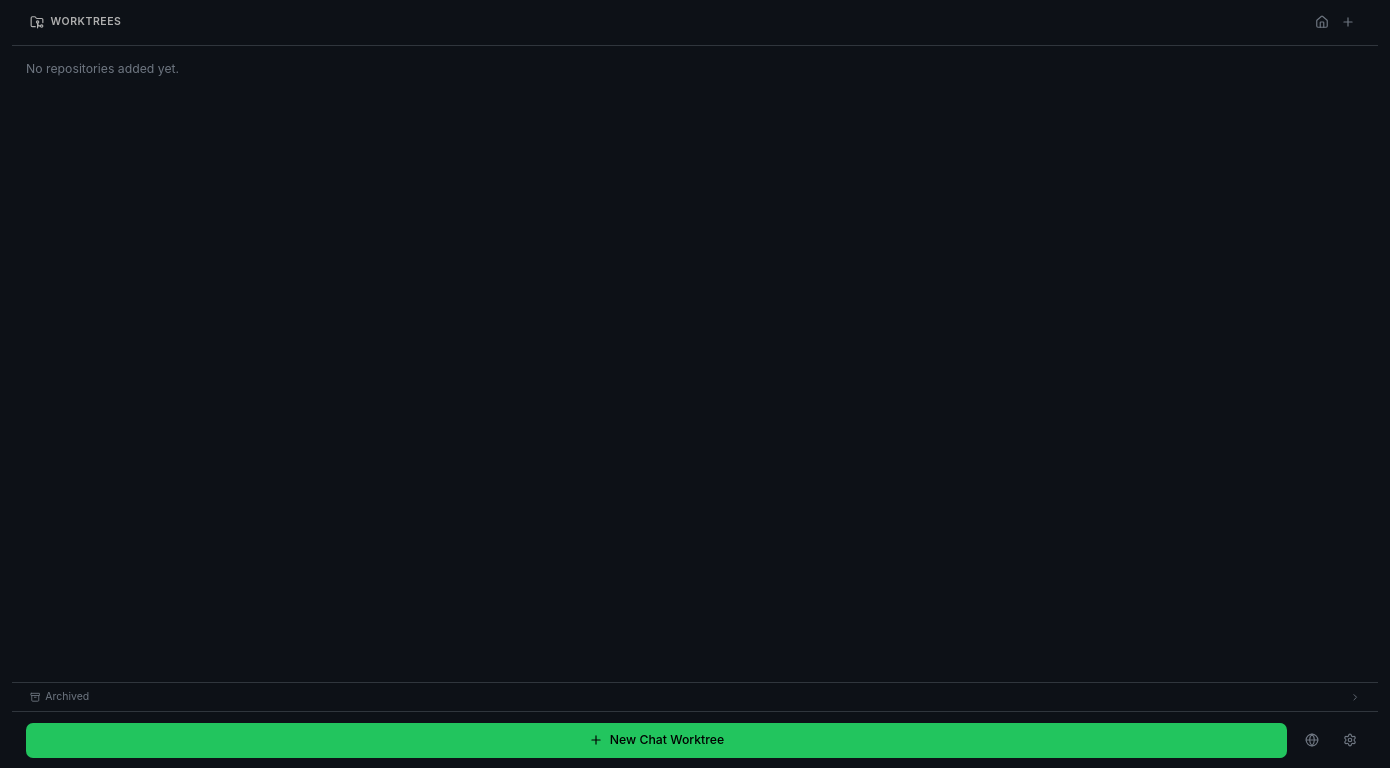
Sidebar › shows no archived workspaces message when expanded
Click the button "Archived" at point(67, 696), box [12,683,1378,711]
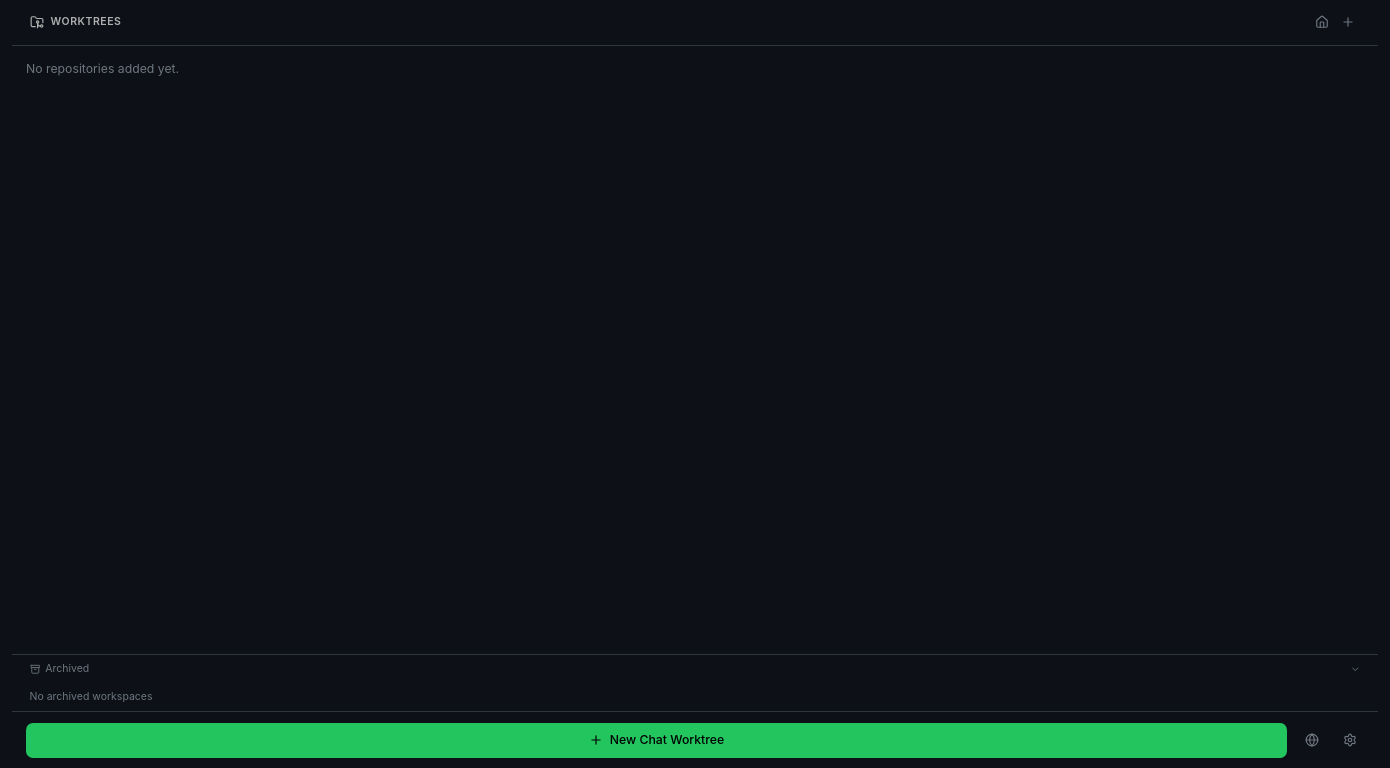
Expected: the text "No archived workspaces" is shown, [30,690,152,703]
